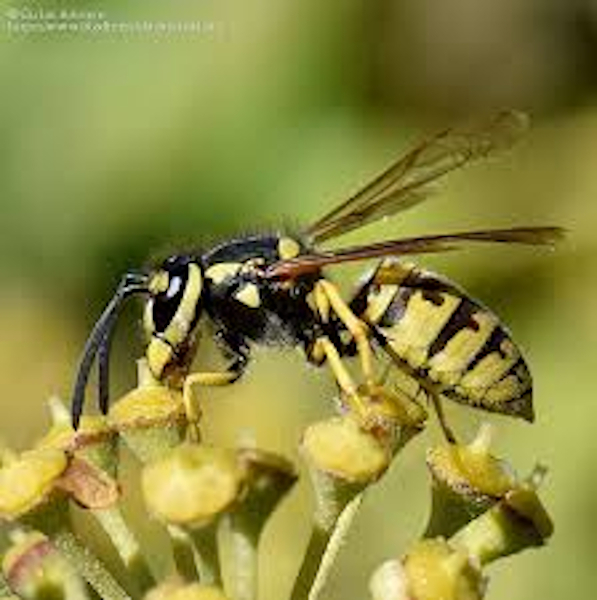chax: (59, 98, 579, 464)
